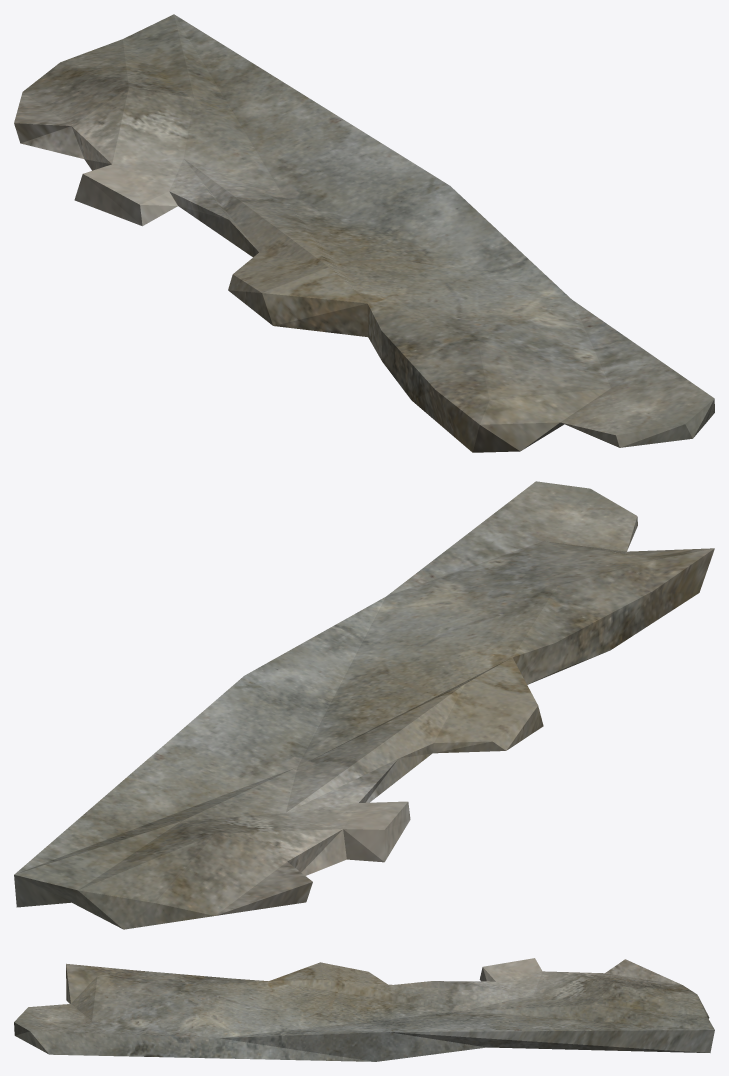
File: RUBBLE_PART3.obj
3 views of the same model, one above another, from view 1: azimuth 30°, elevation 25°; view 2: azimuth 150°, elevation 25°; view 3: azimuth 270°, elevation 25° (orthographic). The views are drawn at different scales.
Parts seen in each view (by area): view 1: RUBBLE_PART3; view 2: RUBBLE_PART3; view 3: RUBBLE_PART3.
Part boxes in pixels (box(x1,y1,x2,y2)): RUBBLE_PART3: box(14, 14, 714, 452); RUBBLE_PART3: box(14, 481, 714, 929); RUBBLE_PART3: box(14, 958, 714, 1061).
Size of the model in its own units: 1.73 by 0.382 by 6.29.
